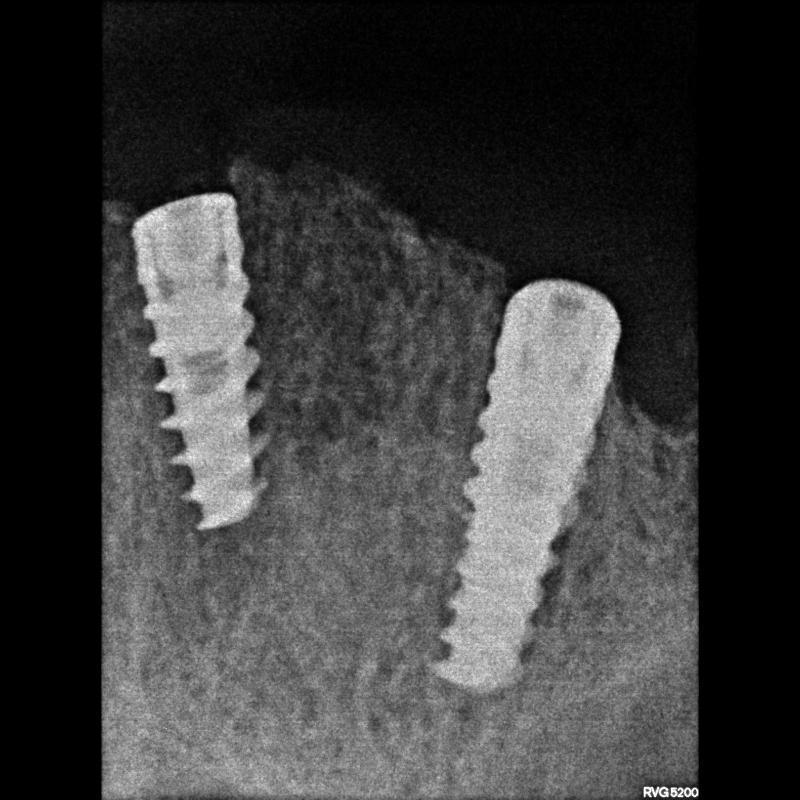ADIN: (440, 255, 634, 707), (129, 193, 279, 533)
